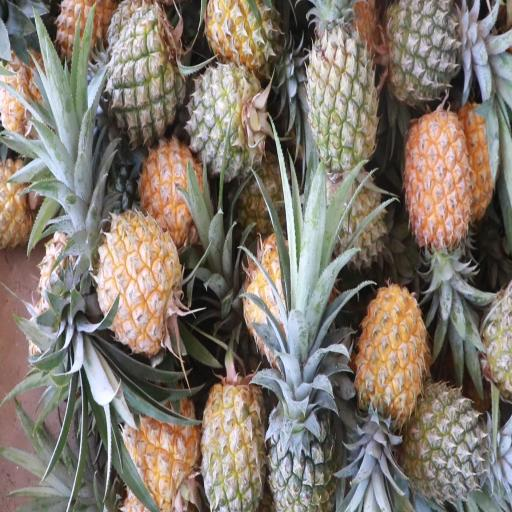Pineapple - v8 v1: (96, 204, 188, 360), (354, 279, 428, 429), (402, 102, 473, 255), (201, 371, 271, 512), (138, 134, 214, 254), (206, 4, 292, 88)
